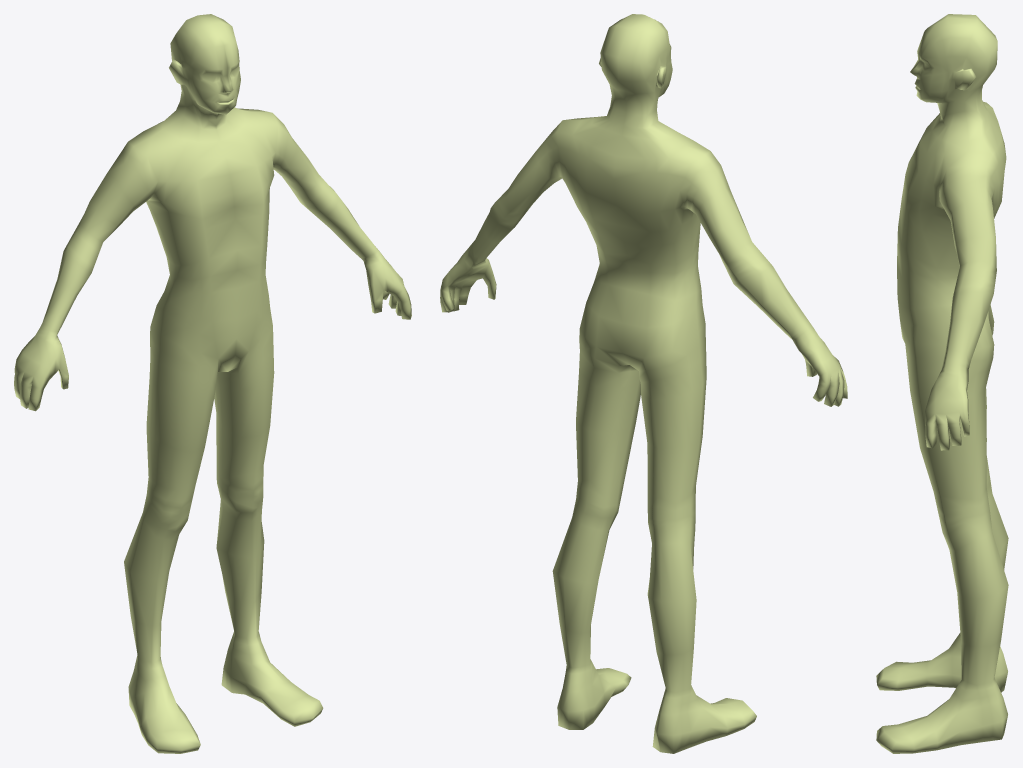
Rendered from PoorMan.fbx.
The picture shows the model from 3 angles, left to right: view 1: azimuth 30°, elevation 25°; view 2: azimuth 150°, elevation 25°; view 3: azimuth 270°, elevation 25°; orthographic projection. The views are drawn at different scales.
Parts seen in each view (by area): view 1: Low Poly Characte.000; view 2: Low Poly Characte.000; view 3: Low Poly Characte.000.
Part boxes in pixels (bbox=[...]): Low Poly Characte.000: bbox=[14, 14, 411, 753]; Low Poly Characte.000: bbox=[440, 14, 847, 753]; Low Poly Characte.000: bbox=[876, 14, 1008, 753].
Size of the model in its own units: 69.5 by 119 by 20.44.
